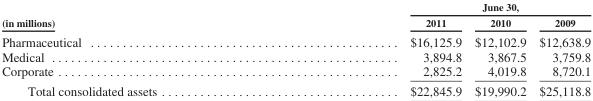table: (1, 0, 590, 98)
table column: (1, 0, 282, 98), (282, 0, 467, 98), (467, 0, 532, 98), (532, 0, 590, 98)
table column header: (1, 0, 590, 30)
table row: (1, 30, 590, 48), (1, 63, 590, 81), (1, 81, 590, 98), (1, 14, 590, 30), (1, 48, 590, 63), (1, 0, 590, 14)
table spanning cell: (1, 0, 282, 30), (282, 0, 590, 14)
